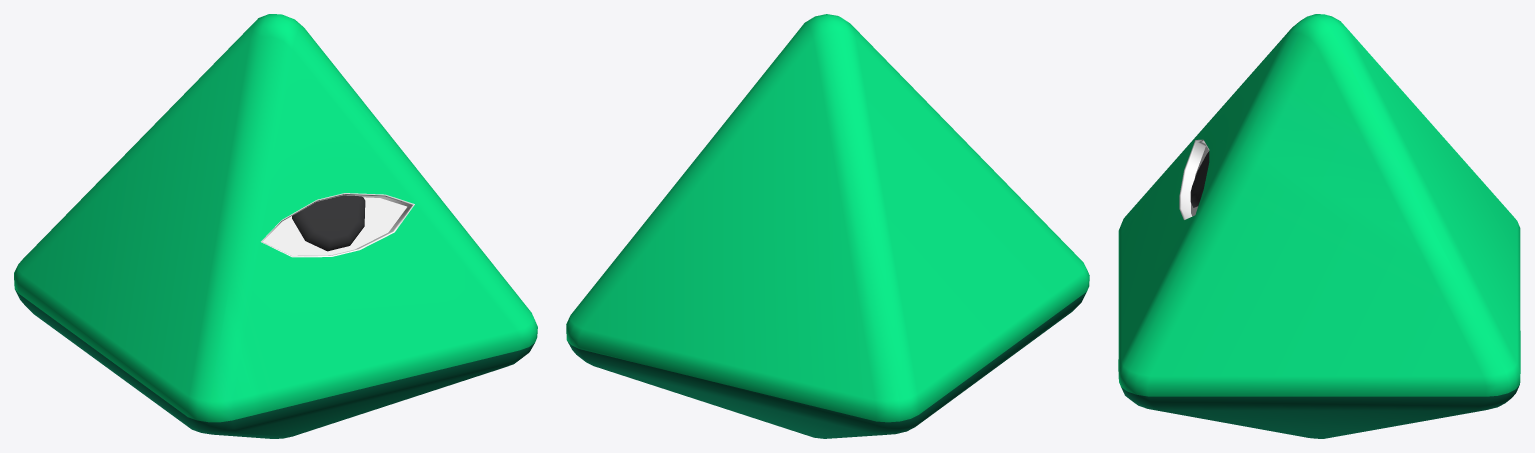
The model's file is entity12666.gltf.
3 views of the same model, side by side, from view 1: azimuth 30°, elevation 25°; view 2: azimuth 150°, elevation 25°; view 3: azimuth 270°, elevation 25° (orthographic).
Parts seen in each view (by area): view 1: node_Logo_PolyMind_01_Art; view 2: node_Logo_PolyMind_01_Art; view 3: node_Logo_PolyMind_01_Art.
Boxes of the visible parts, x1=… form: node_Logo_PolyMind_01_Art: x1=14, y1=14, x2=537, y2=438; node_Logo_PolyMind_01_Art: x1=566, y1=14, x2=1089, y2=438; node_Logo_PolyMind_01_Art: x1=1118, y1=14, x2=1520, y2=438.
Size of the model in its own units: 2.91 by 3.32 by 2.91.
Materials: 1 (1 with a texture image).
